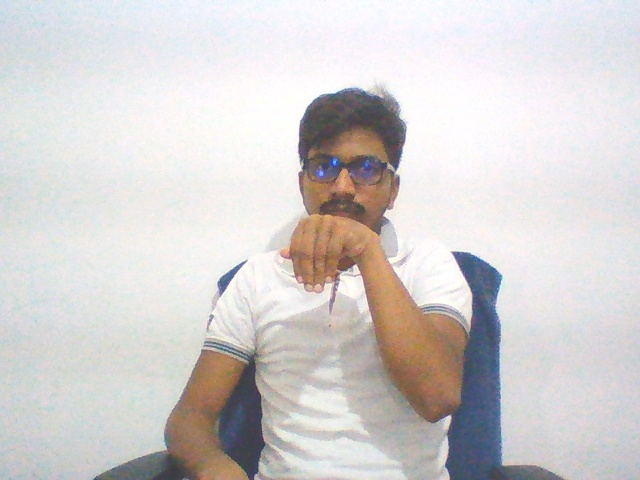Squirrel: (276, 206, 383, 298)
